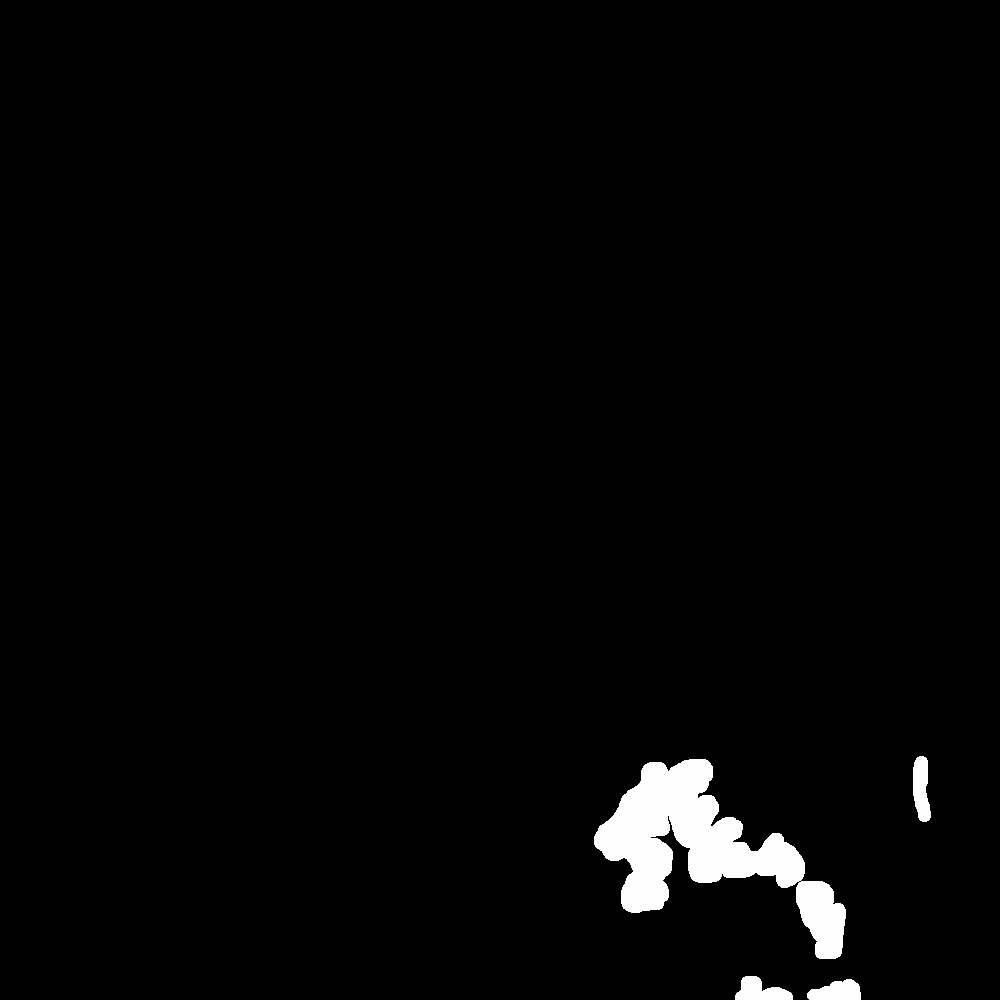illegal: (593, 752, 803, 911), (739, 878, 861, 1000), (893, 745, 934, 815)
